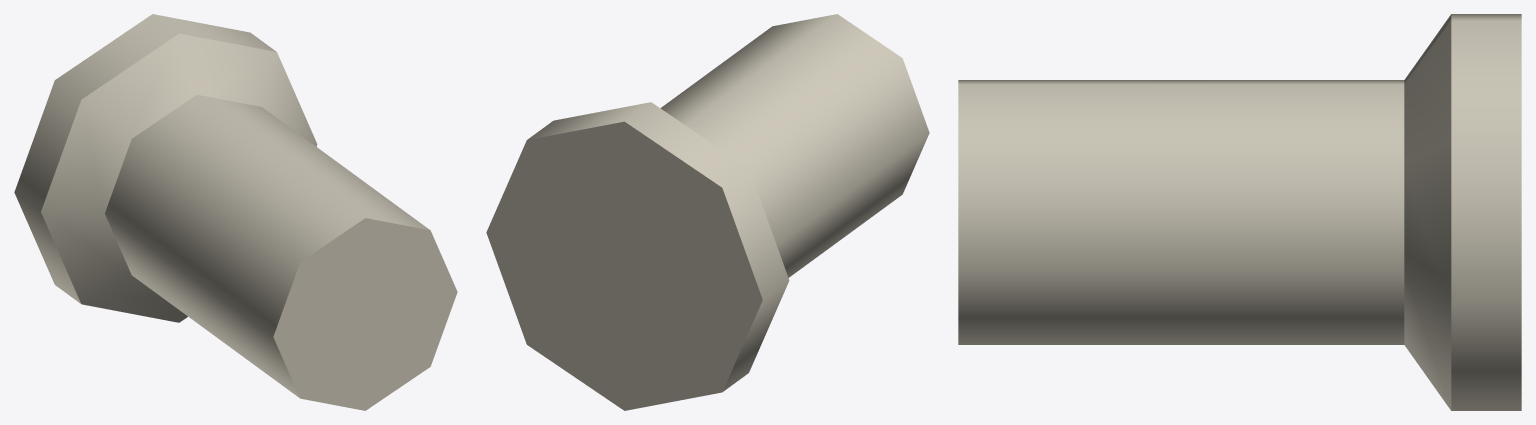
File: u70_busbar.obj
3 views of the same model, side by side, from view 1: azimuth 30°, elevation 25°; view 2: azimuth 150°, elevation 25°; view 3: azimuth 270°, elevation 25° (orthographic). The views are drawn at different scales.
Visible parts, largest first — view 1: u70_busbar; view 2: u70_busbar; view 3: u70_busbar.
Part boxes in pixels (x1,y1,x2,y2): u70_busbar: (14,14,457,410); u70_busbar: (486,14,929,410); u70_busbar: (958,14,1521,410).
Bounding box in the file's own units: 0.72 × 0.72 × 0.96.
